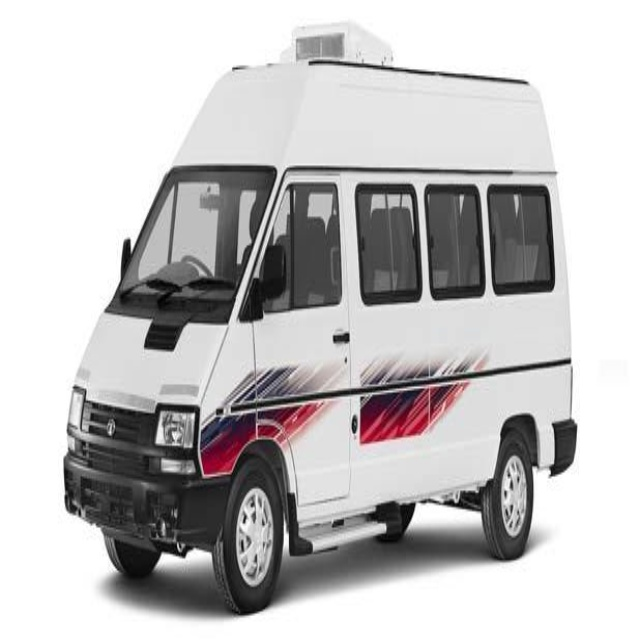Van: (63, 53, 579, 618)
